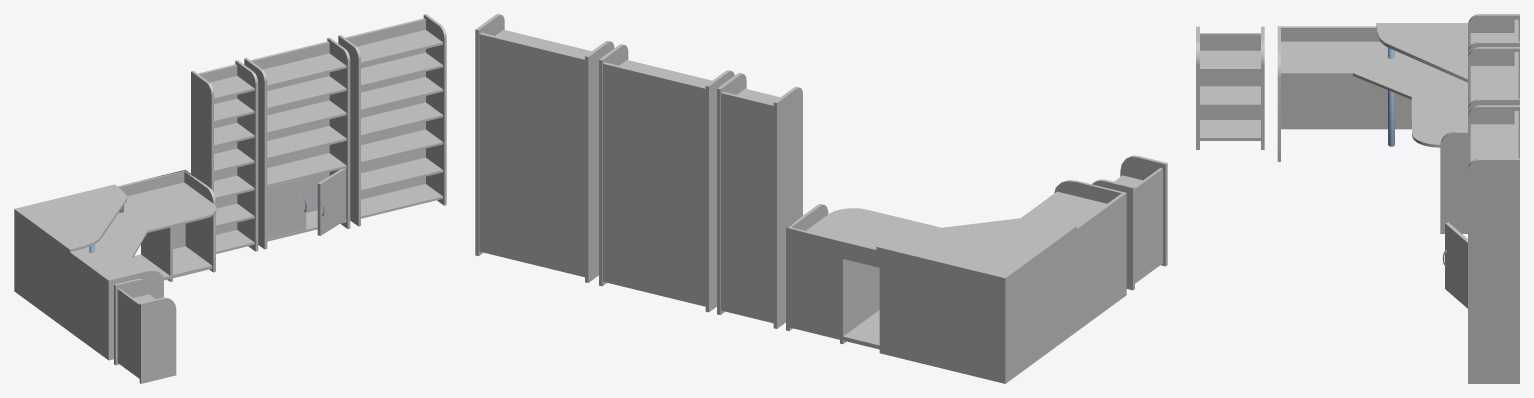
3 views of the same model, side by side, from view 1: azimuth 30°, elevation 25°; view 2: azimuth 150°, elevation 25°; view 3: azimuth 270°, elevation 25° (orthographic). The views are drawn at different scales.
Visible parts, largest first — view 1: Shkaf (×4), Stol; view 2: Shkaf (×4), Stol; view 3: Shkaf (×4), Stol.
Boxes of the visible parts, left/top/right/bottom form: Shkaf (×4): left=114, top=14, right=446, bottom=383; Stol: left=14, top=169, right=216, bottom=360; Shkaf (×4): left=475, top=14, right=1167, bottom=328; Stol: left=786, top=180, right=1126, bottom=383; Shkaf (×4): left=1196, top=14, right=1519, bottom=383; Stol: left=1277, top=23, right=1468, bottom=233.
Size of the model in its own units: 481 by 196 by 257.
